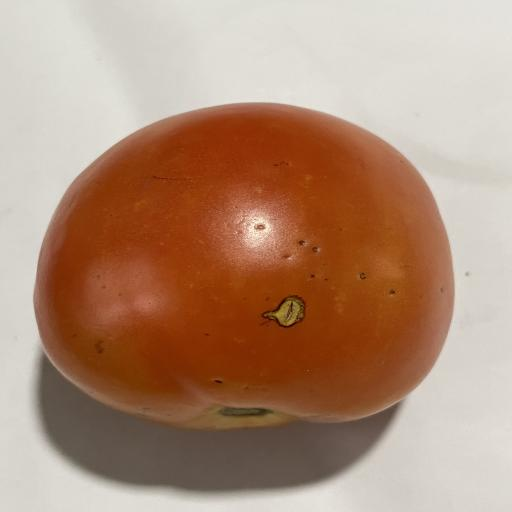ripe: (34, 103, 454, 430)
